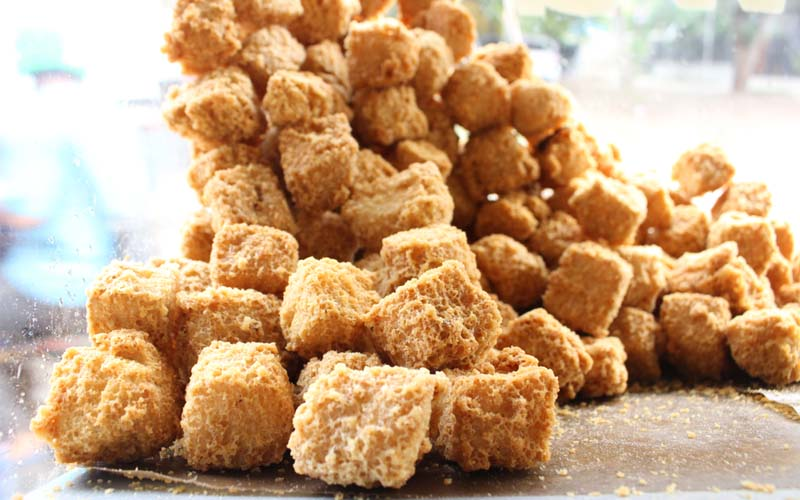Tahu: (300, 365, 454, 474), (369, 254, 503, 364), (51, 343, 166, 447), (179, 345, 277, 466), (448, 373, 579, 454), (276, 115, 353, 182), (556, 245, 640, 306), (567, 178, 642, 228), (664, 154, 731, 194)
